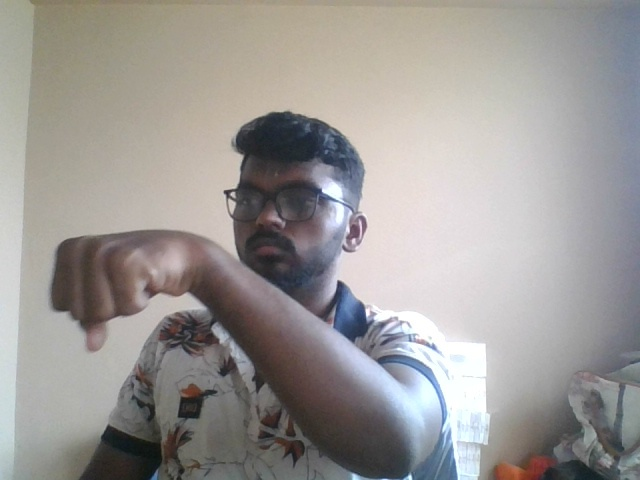Yes: (35, 208, 242, 386)
